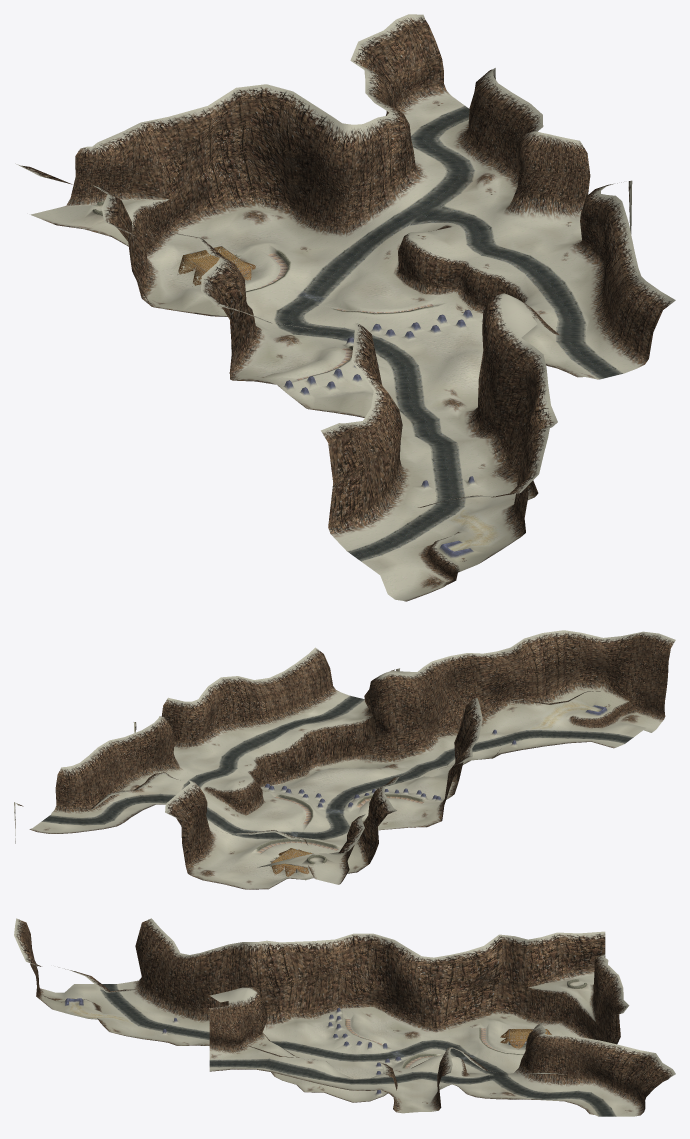
3 renders of one model, top to bottom at view 1: azimuth 30°, elevation 25°; view 2: azimuth 150°, elevation 25°; view 3: azimuth 270°, elevation 25°, orthographic. The views are drawn at different scales.
Visible parts, largest first — view 1: M09_Z02_01397, M09_Z02_01040, M09_Z02_01407, M09_Z02_01328, M09_Z02_01394, M09_Z02_01329, M09_Z02_01390, M09_Z02_01345, M09_Z02_01379, M09_Z02_01392, M09_Z02_01265, M09_Z02_01073 (+31 smaller); view 2: M09_Z02_01106, M09_Z02_01008, M09_Z02_01030, M09_Z02_01016, M09_Z02_01047, M09_Z02_01009, M09_Z02_01022, M09_Z02_01169, M09_Z02_01218, M09_Z02_01093, M09_Z02_01080, M09_Z02_01066 (+48 smaller); view 3: M09_Z02_01069, M09_Z02_01319, M09_Z02_01269, M09_Z02_01156, M09_Z02_01188, M09_Z02_01222, M09_Z02_01204, M09_Z02_01253, M09_Z02_01061, M09_Z02_01364, M09_Z02_01285, M09_Z02_01096 (+54 smaller).
Part boxes in pixels (left/top/right/bottom): M09_Z02_01397: left=246, top=97, right=285, bottom=212; M09_Z02_01040: left=324, top=428, right=373, bottom=539; M09_Z02_01407: left=208, top=88, right=252, bottom=179; M09_Z02_01328: left=328, top=136, right=383, bottom=237; M09_Z02_01394: left=161, top=117, right=213, bottom=230; M09_Z02_01329: left=355, top=128, right=401, bottom=222; M09_Z02_01390: left=61, top=142, right=111, bottom=207; M09_Z02_01345: left=314, top=123, right=355, bottom=223; M09_Z02_01379: left=262, top=105, right=318, bottom=222; M09_Z02_01392: left=124, top=122, right=170, bottom=199; M09_Z02_01265: left=523, top=131, right=561, bottom=210; M09_Z02_01073: left=483, top=348, right=529, bottom=451; M09_Z02_01106: left=375, top=673, right=410, bottom=760; M09_Z02_01008: left=578, top=643, right=618, bottom=701; M09_Z02_01030: left=509, top=642, right=535, bottom=706; M09_Z02_01016: left=542, top=630, right=583, bottom=691; M09_Z02_01047: left=471, top=655, right=501, bottom=719; M09_Z02_01009: left=564, top=633, right=605, bottom=691; M09_Z02_01022: left=532, top=642, right=567, bottom=704; M09_Z02_01169: left=219, top=676, right=254, bottom=730; M09_Z02_01218: left=173, top=701, right=206, bottom=752; M09_Z02_01093: left=406, top=682, right=432, bottom=759; M09_Z02_01080: left=414, top=678, right=441, bottom=751; M09_Z02_01066: left=436, top=660, right=465, bottom=733; M09_Z02_01069: left=180, top=952, right=225, bottom=1023; M09_Z02_01319: left=511, top=937, right=544, bottom=1011; M09_Z02_01269: left=453, top=951, right=488, bottom=1021; M09_Z02_01156: left=314, top=953, right=341, bottom=1012; M09_Z02_01188: left=356, top=945, right=388, bottom=1013; M09_Z02_01222: left=393, top=952, right=422, bottom=1030; M09_Z02_01204: left=371, top=940, right=407, bottom=1018; M09_Z02_01253: left=434, top=977, right=465, bottom=1030; M09_Z02_01061: left=161, top=955, right=195, bottom=1018; M09_Z02_01364: left=548, top=1041, right=581, bottom=1087; M09_Z02_01285: left=470, top=946, right=502, bottom=1014; M09_Z02_01096: left=222, top=1008, right=247, bottom=1055.
Size of the model in its own units: 156 by 40.01 by 274.
Materials: 38 (38 with a texture image).
